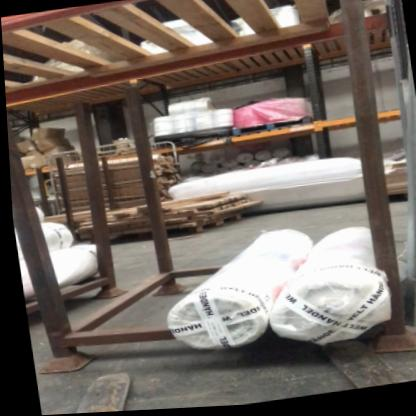vertical_damage: (398, 297, 416, 352)
